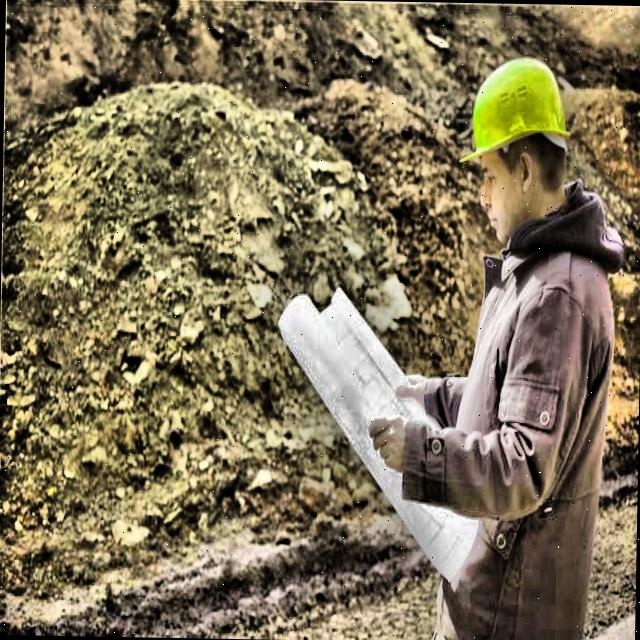helmet: (446, 28, 583, 254)
